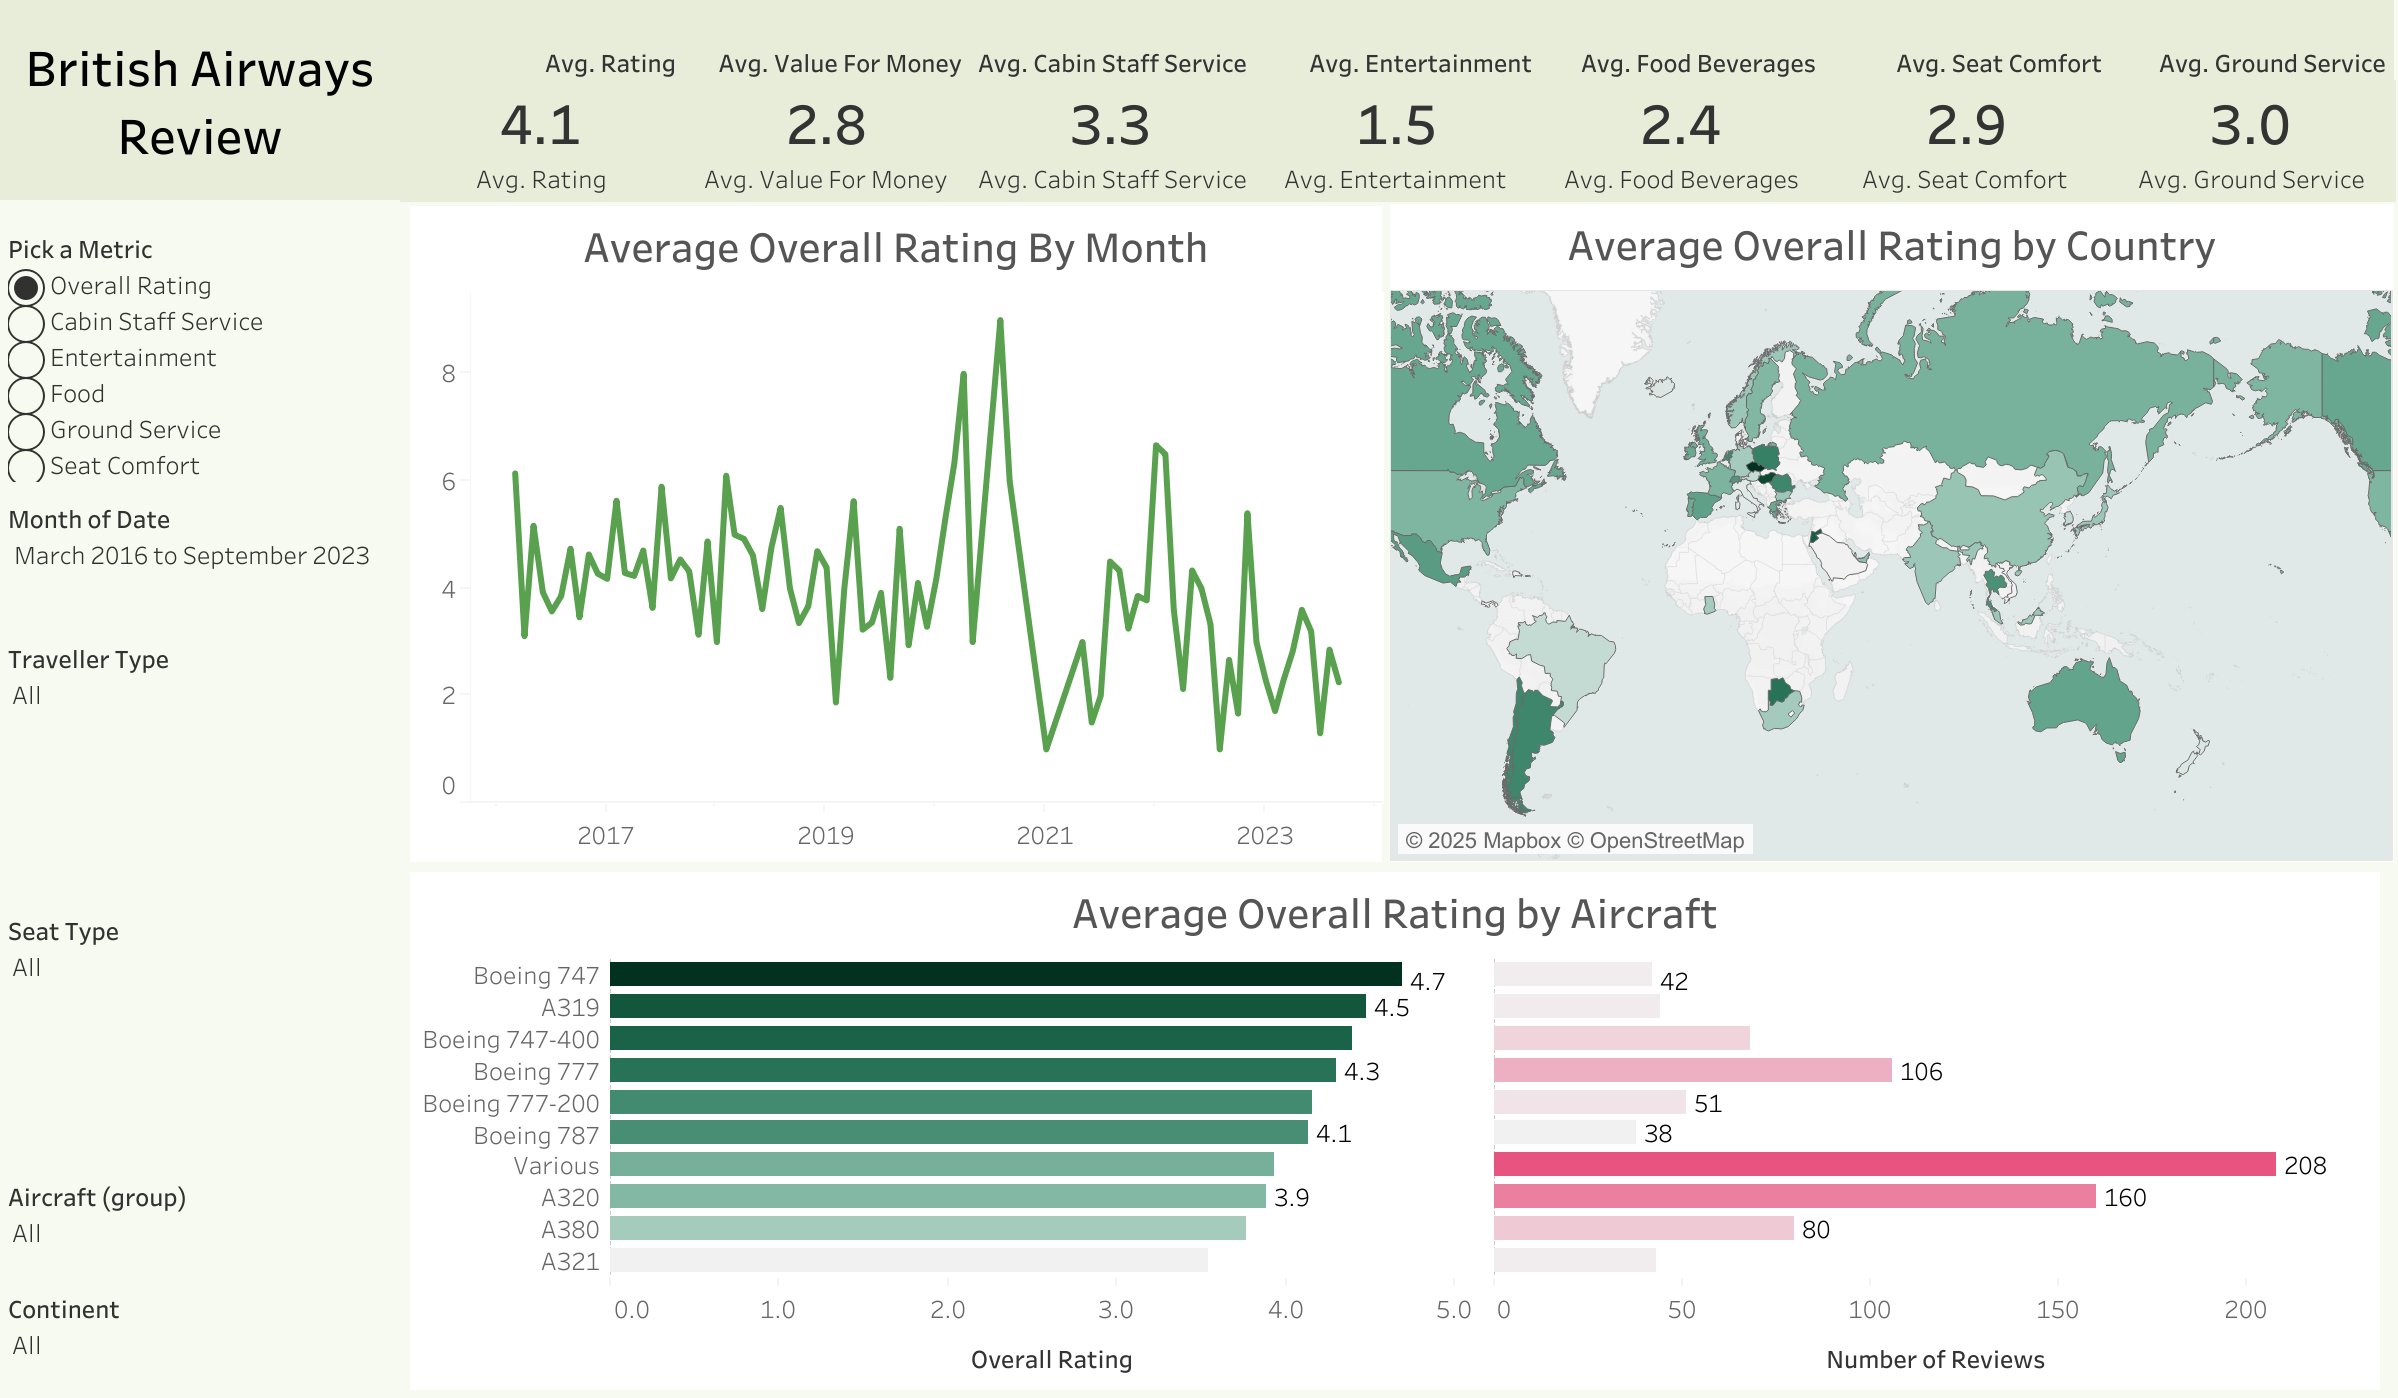

The dashboard page shown, as its layout file describes it:
{"tool":"tableau","page":{"name":"Dashboard 1","canvas":[1200,700],"ordinal":0},"visuals":[{"type":"text","box":[0,0,200,100]},{"type":"worksheet","title":"Summary","mark":"Automatic","box":[200,0,997,100]},{"type":"worksheet","title":"Map","mark":"Automatic","box":[695,102,502,329]},{"type":"worksheet","title":"Average Parameter","mark":"Automatic","rows":["Calculation_1055556995391512"],"cols":["date"],"box":[205,103,486,328]},{"type":"parameter","param":"[Parameters].[Parameter 1]","box":[0,110,200,135.5]},{"type":"filter","title":"Map","param":"[federated.08ubnij07lx3te0zzjlct1w7dgbw].[tmn:date:qk]","box":[0,245.5,200,70]},{"type":"filter","title":"Map","param":"[federated.08ubnij07lx3te0zzjlct1w7dgbw].[none:traveller_type:nk]","box":[0,315.5,200,135.5]},{"type":"worksheet","title":"Aircraft","mark":"Automatic","cols":["Calculation_1055556995391512","ba!reviews_2CD26074B515410EA98E24B36E40C382"],"box":[205,436,985,259]},{"type":"filter","title":"Map","param":"[federated.08ubnij07lx3te0zzjlct1w7dgbw].[none:seat_type:nk]","box":[0,451,200,133]},{"type":"filter","title":"Map","param":"[federated.08ubnij07lx3te0zzjlct1w7dgbw].[Aircraft (group)]","box":[0,584,200,56]},{"type":"filter","title":"Map","param":"[federated.08ubnij07lx3te0zzjlct1w7dgbw].[none:Column3:nk]","box":[0,640,200,56]}]}

Visuals, with their boxes in screenshot pixels (x1, y1, x2, y2), scaled from the page's 1200x700 canvas onto the 2398x1398 screenshot:
text: (left=0, top=0, right=400, bottom=200)
"Summary" worksheet: (left=400, top=0, right=2392, bottom=200)
"Map" worksheet: (left=1389, top=204, right=2392, bottom=861)
"Average Parameter" worksheet: (left=410, top=206, right=1381, bottom=861)
parameter: (left=0, top=220, right=400, bottom=490)
"Map" filter: (left=0, top=490, right=400, bottom=630)
"Map" filter: (left=0, top=630, right=400, bottom=901)
"Aircraft" worksheet: (left=410, top=871, right=2378, bottom=1388)
"Map" filter: (left=0, top=901, right=400, bottom=1166)
"Map" filter: (left=0, top=1166, right=400, bottom=1278)
"Map" filter: (left=0, top=1278, right=400, bottom=1390)
